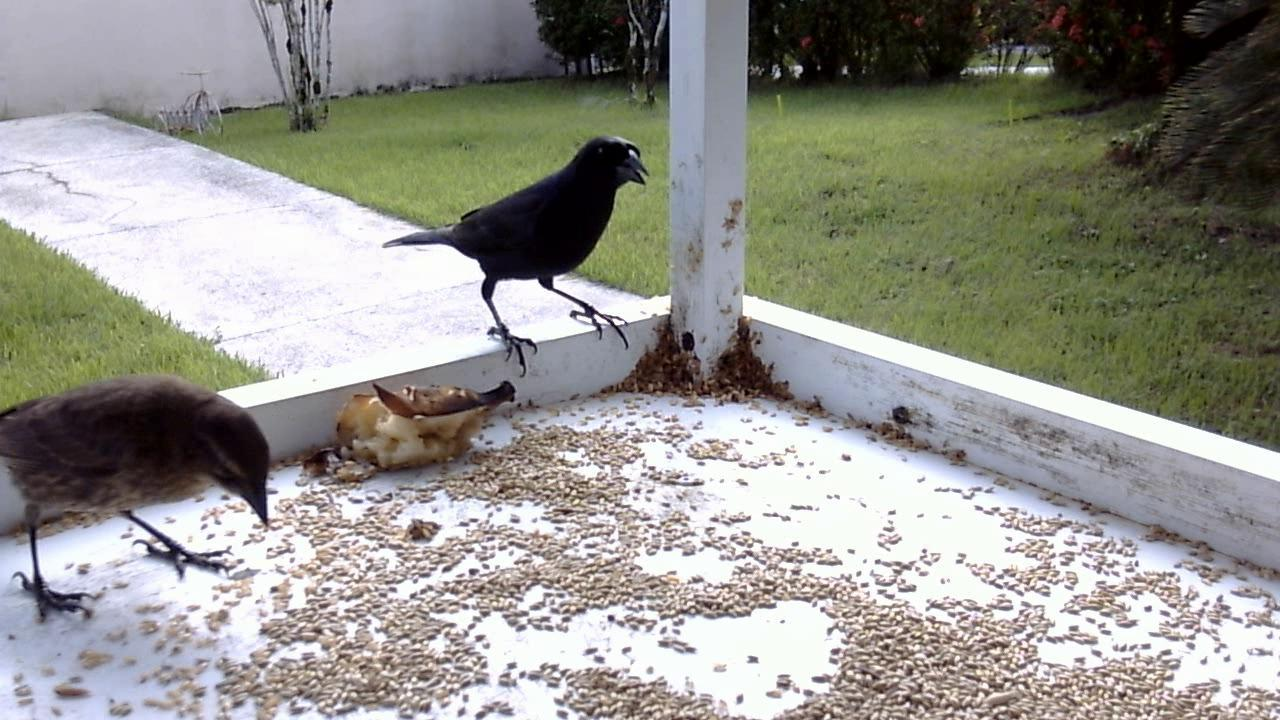chupim: (1, 356, 283, 631), (384, 129, 655, 384)
